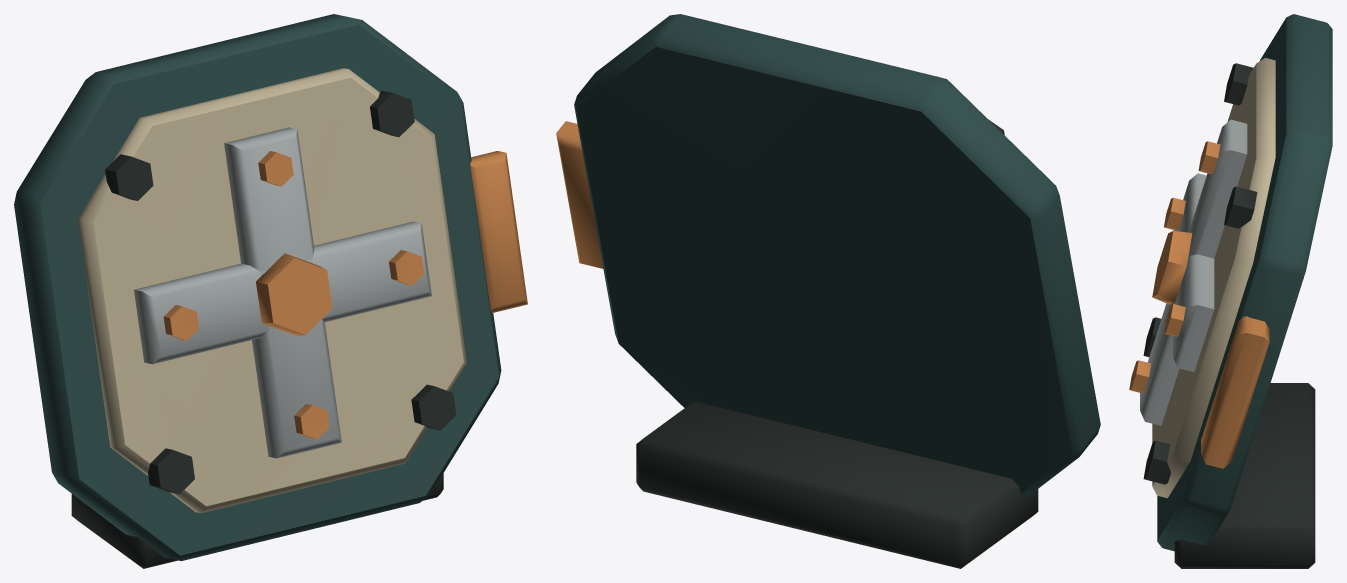
Rendered from cons_moss_patch.glb.
3 views of the same model, side by side, from view 1: azimuth 30°, elevation 25°; view 2: azimuth 150°, elevation 25°; view 3: azimuth 270°, elevation 25° (orthographic). The views are drawn at different scales.
Visible parts, largest first — view 1: cons_moss_patch_mesh; view 2: cons_moss_patch_mesh; view 3: cons_moss_patch_mesh.
Part boxes in pixels (x1,y1,x2,y2): cons_moss_patch_mesh: [14, 14, 527, 568]; cons_moss_patch_mesh: [556, 14, 1100, 568]; cons_moss_patch_mesh: [1129, 14, 1332, 568].
Bounding box in the file's own units: 0.5175 × 0.4708 × 0.2024.
